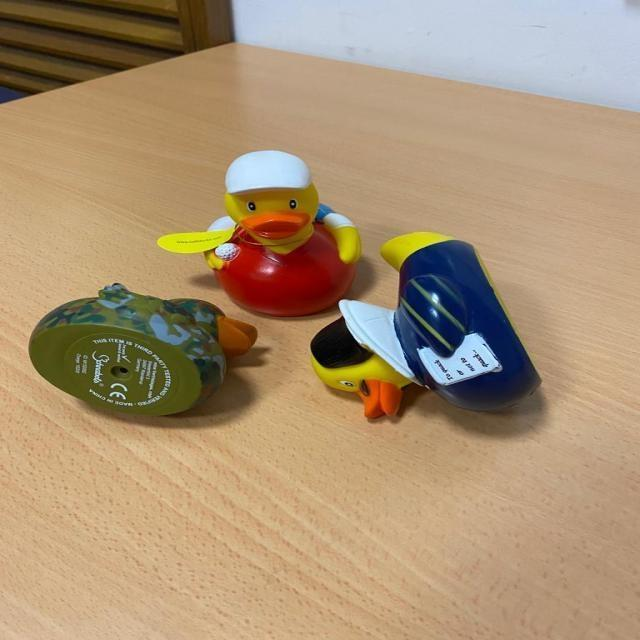rubber-duck: (310, 231, 538, 416), (156, 149, 359, 314), (28, 282, 224, 413)
